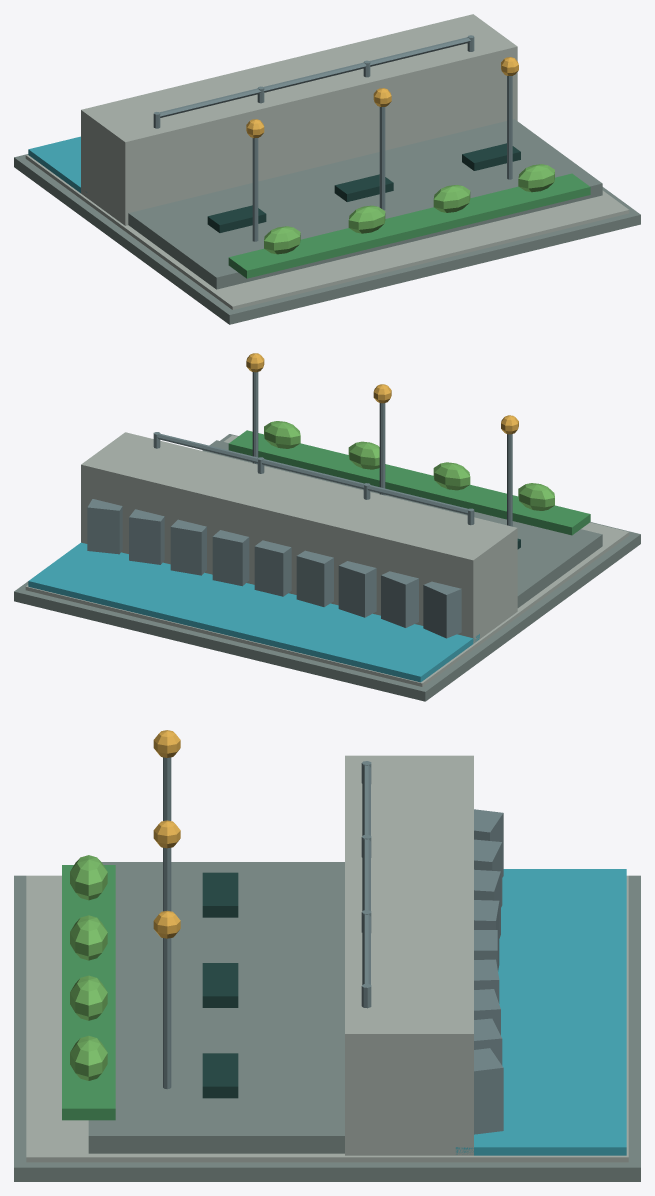
The model's file is seawall_lv4.glb.
The picture shows the model from 3 angles, top to bottom: view 1: azimuth 30°, elevation 25°; view 2: azimuth 150°, elevation 25°; view 3: azimuth 270°, elevation 25°; orthographic projection. The views are drawn at different scales.
Visible parts, largest first — view 1: concrete, pavement, green, steel, foliage, dark, water, gold; view 2: concrete, water, steel, pavement, green, foliage, gold; view 3: pavement, concrete, water, steel, green, foliage, dark, gold.
Part boxes in pixels (box(x1,y1,x2,y2)): concrete: box(25, 14, 629, 309); pavement: box(14, 119, 640, 324); green: box(228, 173, 590, 278); steel: box(153, 35, 512, 241); foliage: box(264, 164, 554, 254); dark: box(207, 143, 520, 232); water: box(28, 136, 86, 193); gold: box(246, 57, 518, 138); concrete: box(25, 432, 629, 686); water: box(28, 542, 479, 682); steel: box(87, 372, 512, 638); pavement: box(14, 434, 640, 701); green: box(228, 430, 590, 535); foliage: box(264, 421, 554, 510); gold: box(246, 353, 518, 434); pavement: box(14, 862, 640, 1181); concrete: box(26, 755, 628, 1162); water: box(455, 869, 626, 1155); steel: box(163, 757, 503, 1134); green: box(62, 865, 115, 1120); foliage: box(70, 855, 107, 1080); dark: box(202, 872, 238, 1098); gold: box(153, 730, 180, 938).
Bounding box in the file's own units: 9.7 × 3.32 × 8.8.
